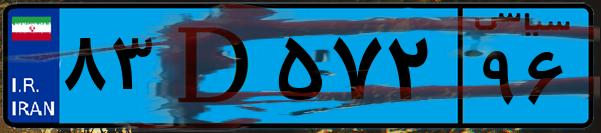2: (385, 28, 445, 110)
3: (110, 28, 158, 98)
5: (270, 28, 330, 110)
6: (525, 38, 570, 115)
7: (330, 28, 385, 110)
8: (57, 26, 110, 100)
9: (475, 38, 525, 113)
D: (158, 12, 270, 120)
